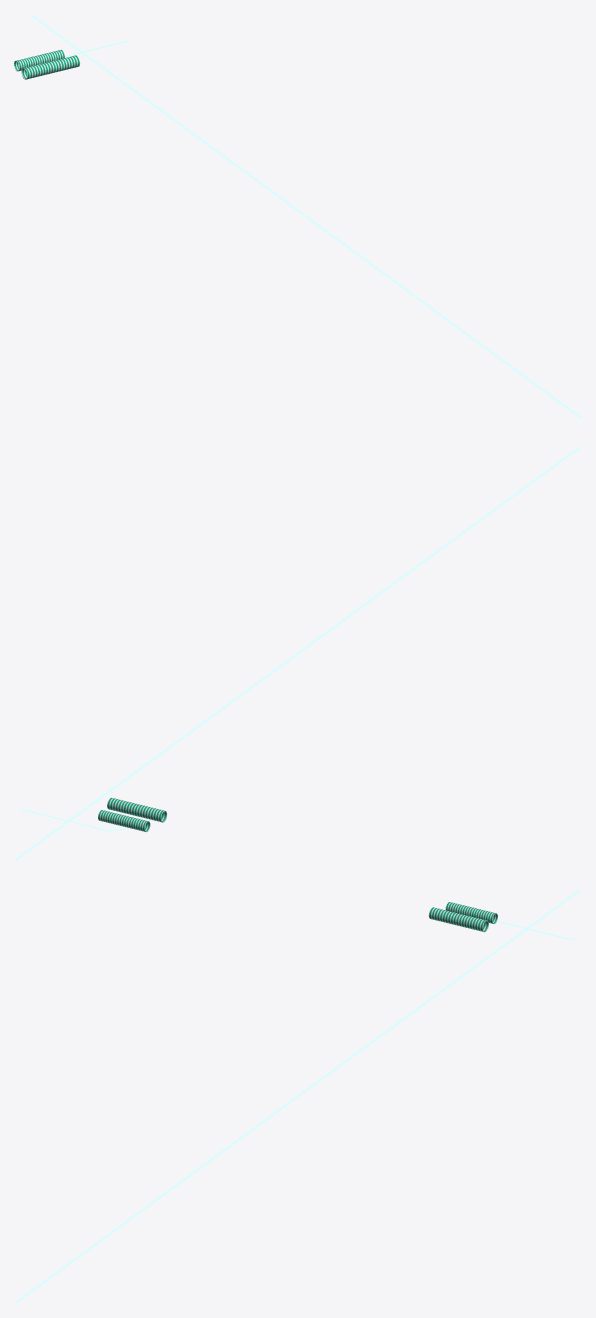
3 views of the same model, one above another, from view 1: azimuth 30°, elevation 25°; view 2: azimuth 150°, elevation 25°; view 3: azimuth 330°, elevation 25° (orthographic). The views are drawn at different scales.
Visible parts, largest first — view 1: 扫描.1, 扫描.2, 管道.1; view 2: 扫描.2, 扫描.1, 管道.1, 管道; view 3: 扫描.2, 扫描.1, 管道.1, 管道.
Boxes of the visible parts, left/top/right/bottom form: 扫描.1: left=29, top=14, right=579, bottom=417; 扫描.2: left=31, top=14, right=581, bottom=417; 管道.1: left=21, top=55, right=80, bottom=79; 扫描.2: left=14, top=446, right=579, bottom=859; 扫描.1: left=16, top=447, right=581, bottom=860; 管道.1: left=107, top=797, right=167, bottom=822; 管道: left=98, top=810, right=150, bottom=832; 扫描.2: left=16, top=890, right=581, bottom=1303; 扫描.1: left=14, top=889, right=579, bottom=1302; 管道.1: left=428, top=907, right=488, bottom=932; 管道: left=445, top=902, right=497, bottom=923.
Size of the model in its own units: 1289 by 153 by 10086.
2 materials, 1 textured.
